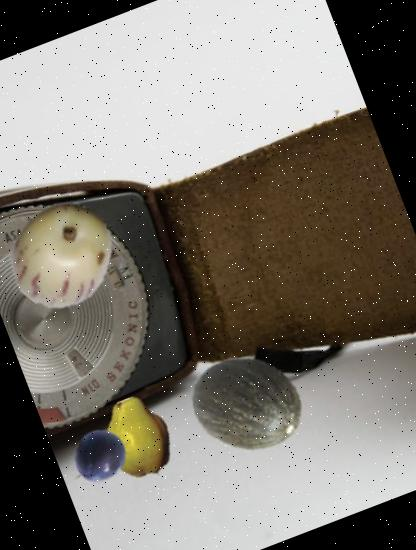Melon: (176, 334, 318, 476)
Pepino: (0, 185, 131, 325)
Plum: (64, 421, 136, 493)
Quince: (83, 386, 190, 492)
